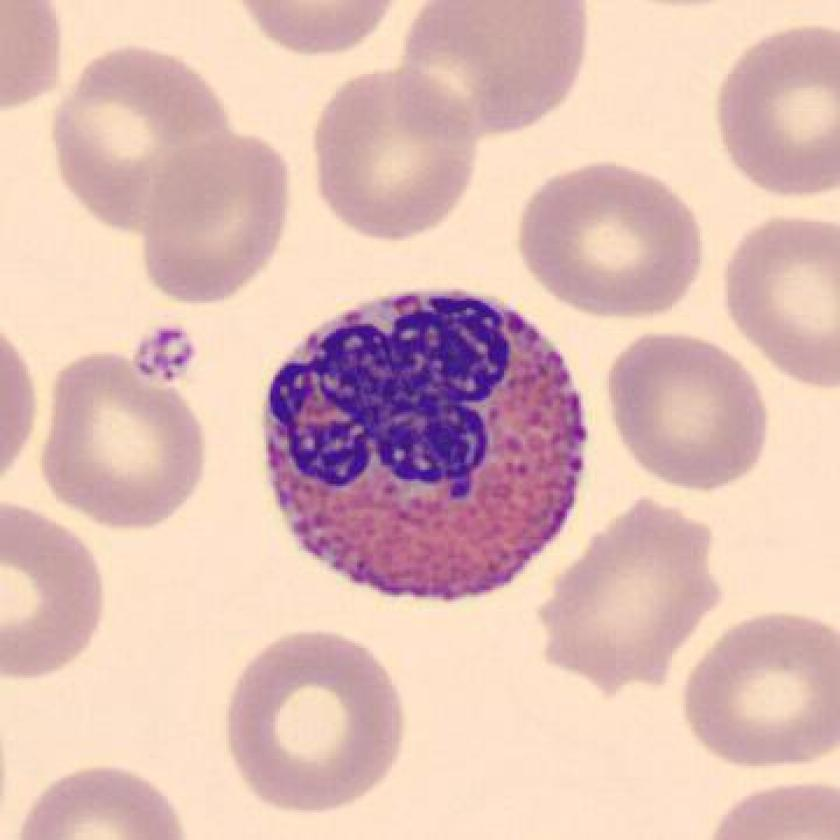eosinophil: (251, 274, 603, 617)
